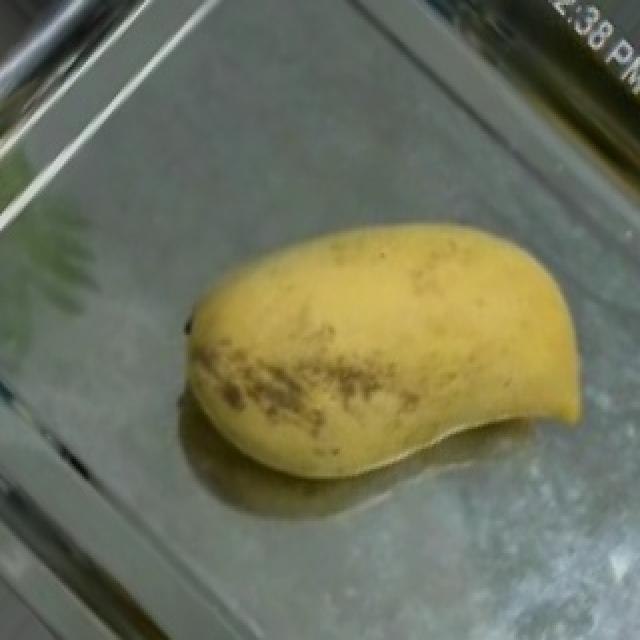fruit: (184, 129, 640, 526)
